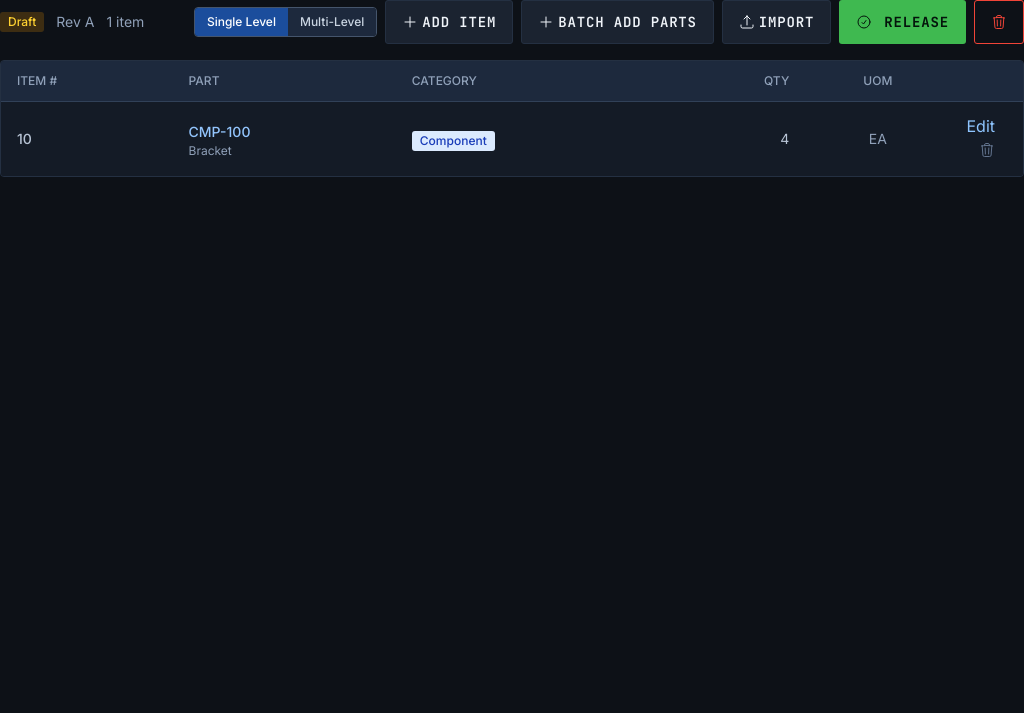
Test: BOM contents and line editing › edits a draft line in place and retains values after a refused save
This screenshot has width=1024, height=713.
Click the button "Edit": click(981, 126) [966,114,995,138]
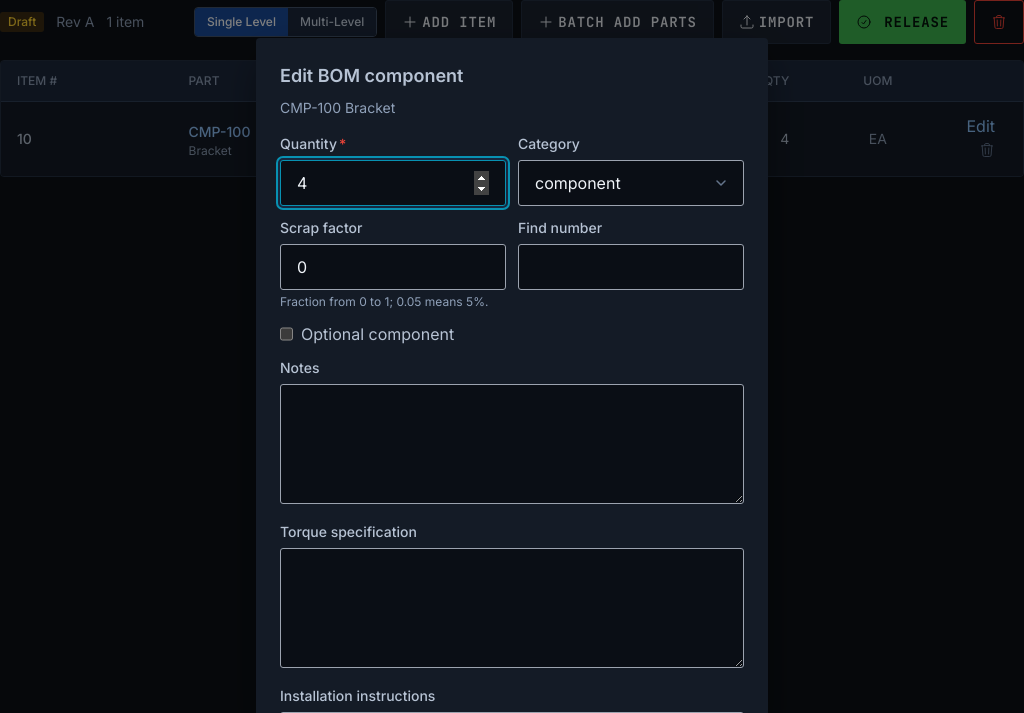
Replace the text in the number field labelled "Quantity*" with "7": (393, 183) [280,160,506,206]
(page scrolled)
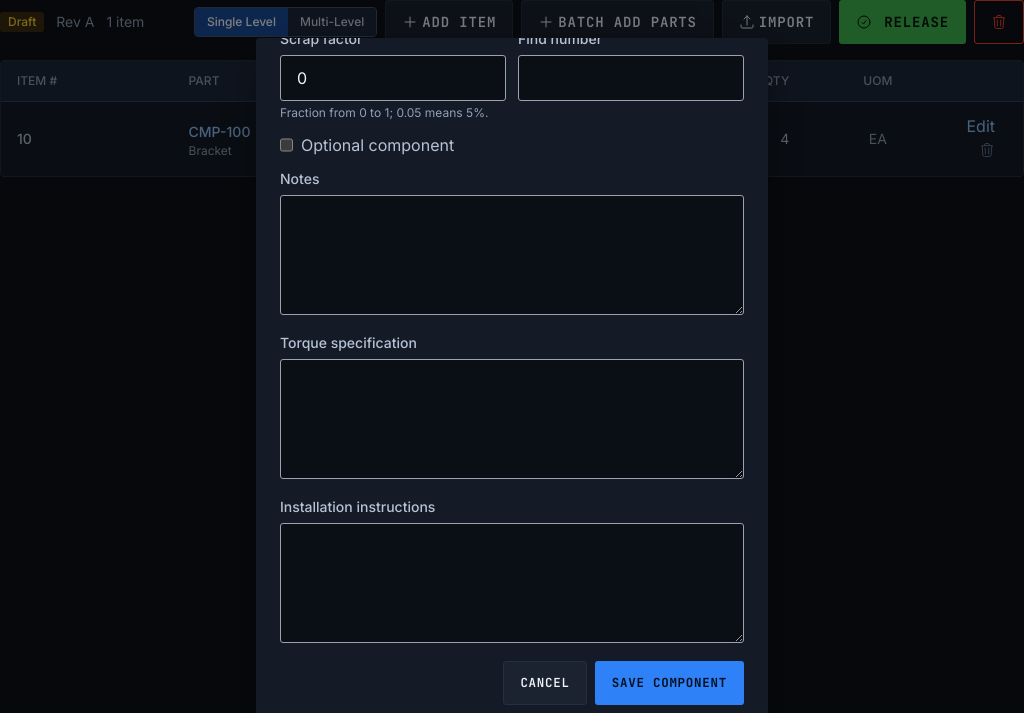
Click the button "Save component": click(669, 683) [595,661,744,705]
(page scrolled)
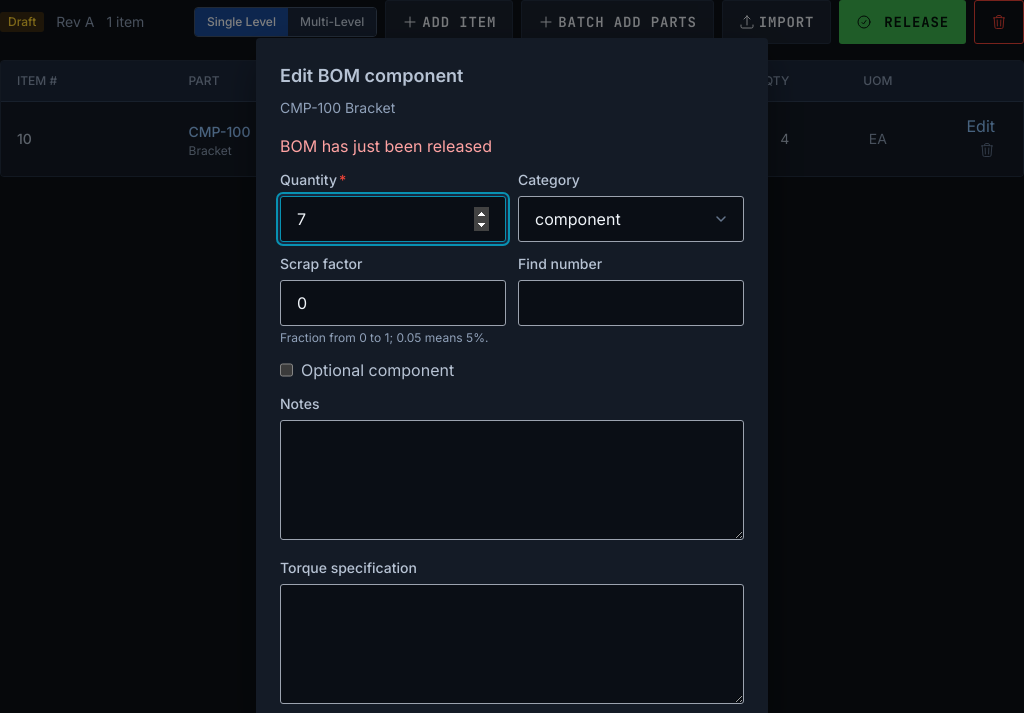
Now the text "BOM has just been released" is shown, box [280,136,492,156]
